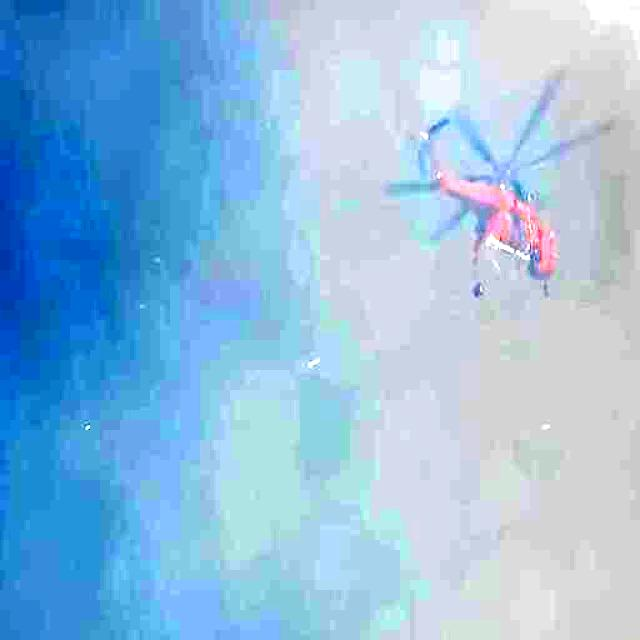drone: (381, 76, 611, 306)
